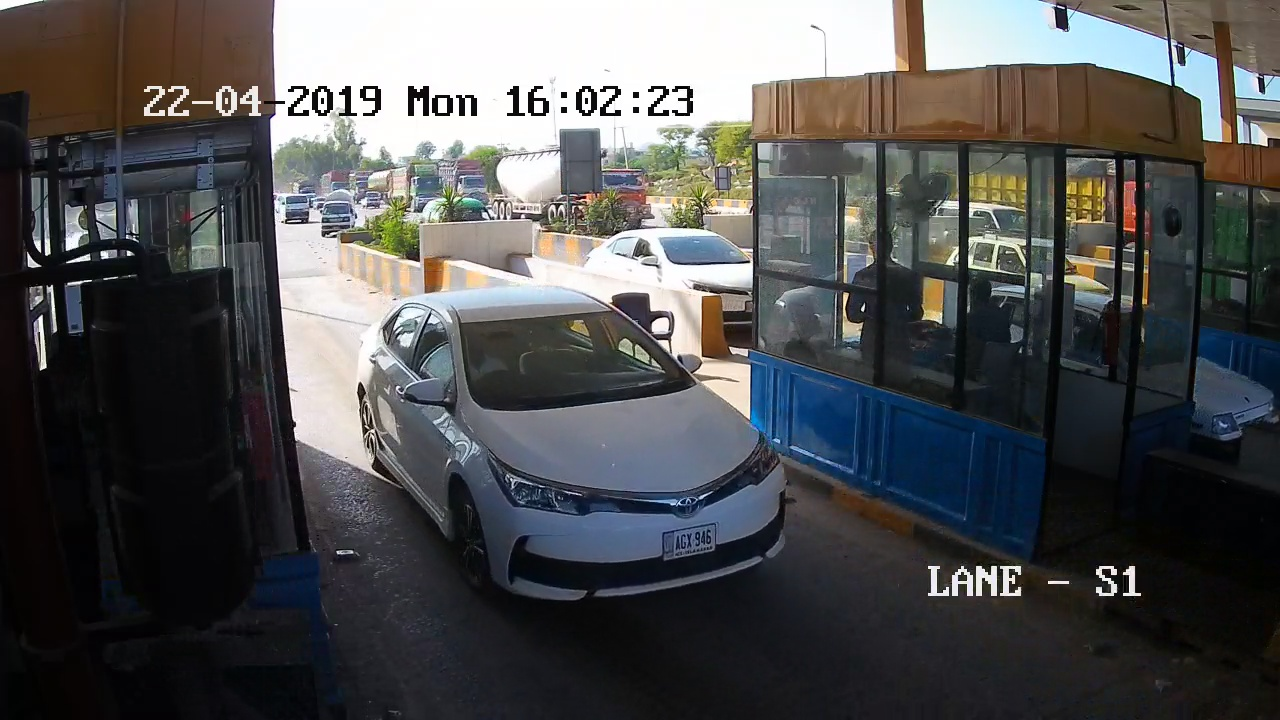car: (345, 287, 790, 639)
